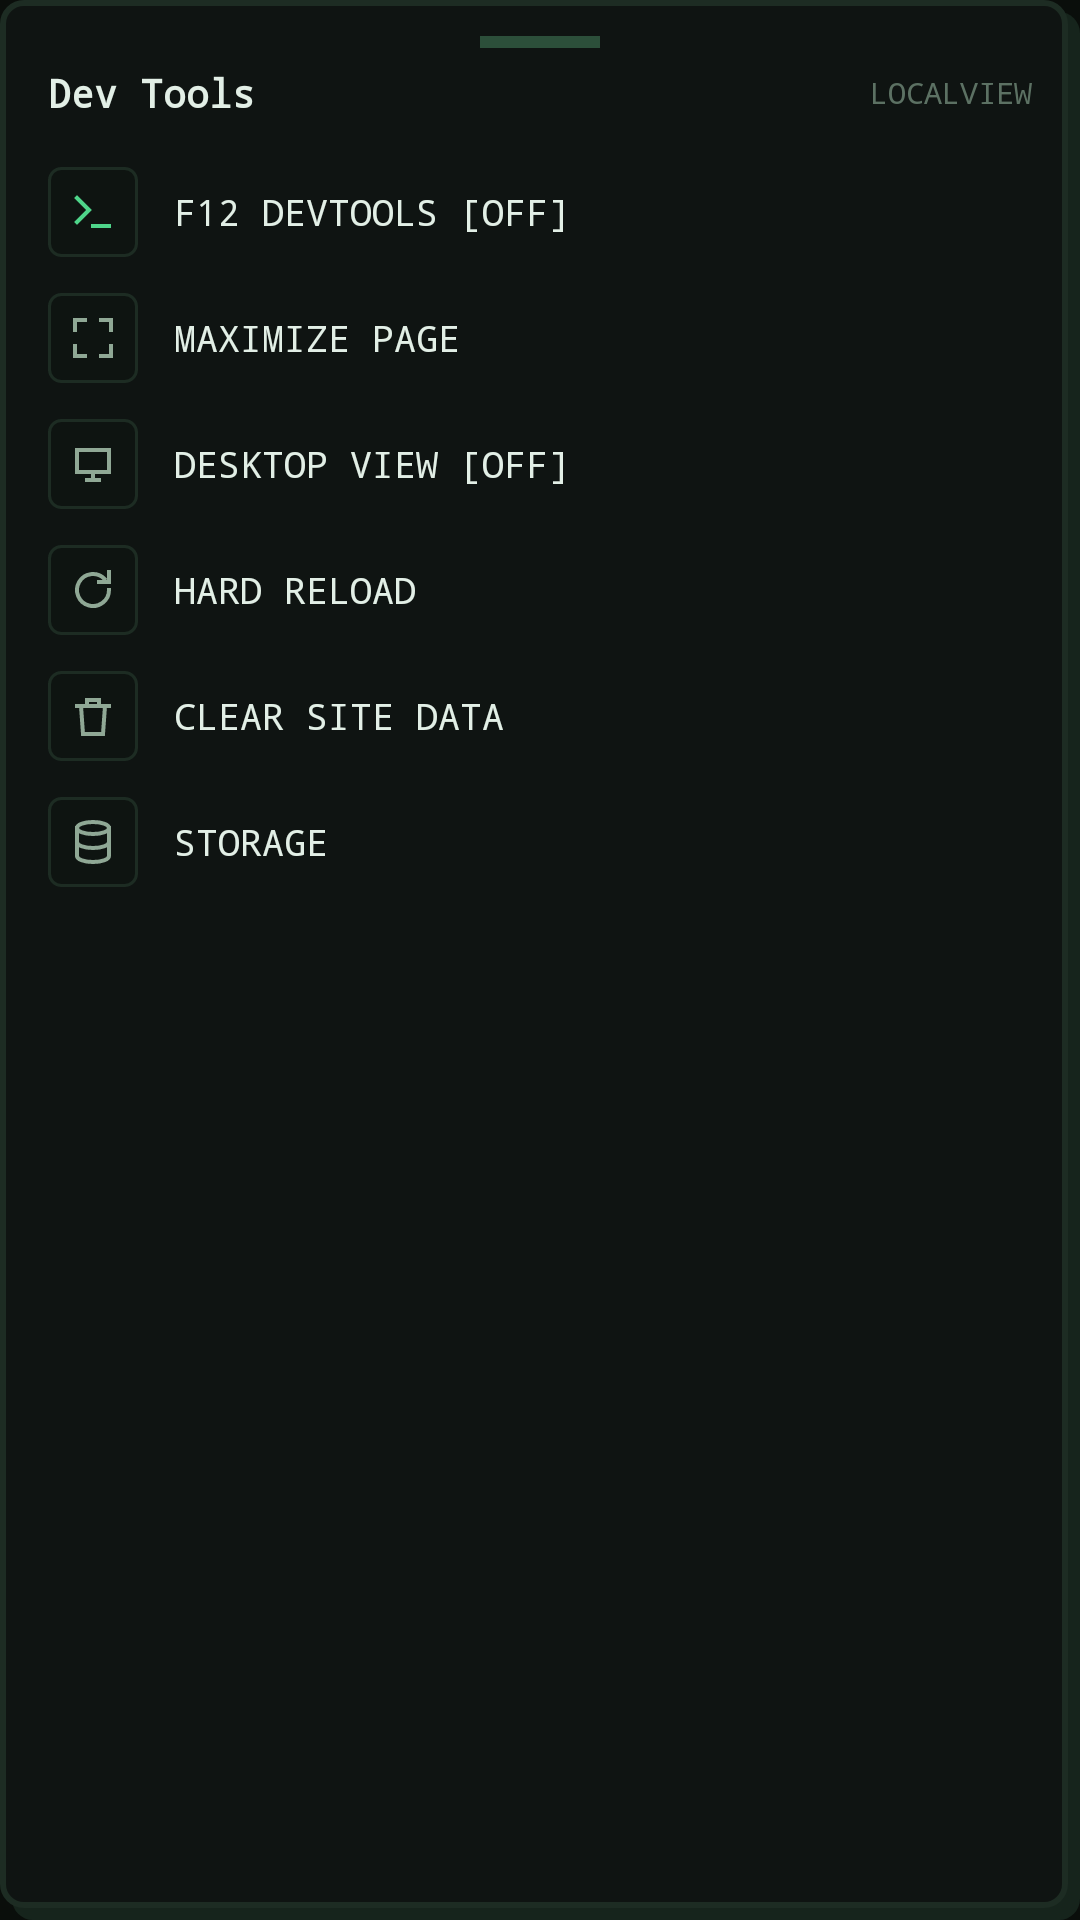

Named icons in this screenshot (1080*1920) and their centers, (x=x, y=y):
expand: (x=93, y=338)
monitor: (x=93, y=465)
term: (x=92, y=211)
trash: (x=93, y=717)
